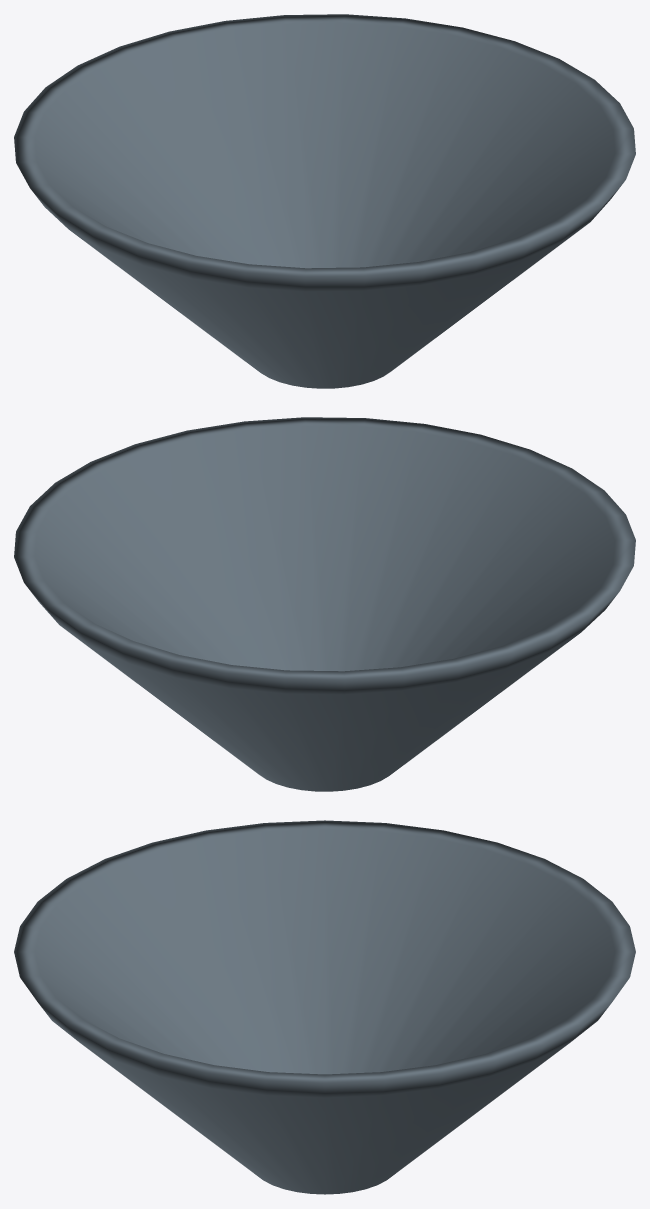
File: eagle_ascent.docking_tunnel.drogue.glb
3 views of the same model, one above another, from view 1: azimuth 30°, elevation 25°; view 2: azimuth 150°, elevation 25°; view 3: azimuth 270°, elevation 25° (orthographic).
Parts seen in each view (by area): view 1: eagle_ascent.docking_tunnel.drogue.mesh; view 2: eagle_ascent.docking_tunnel.drogue.mesh; view 3: eagle_ascent.docking_tunnel.drogue.mesh.
Part boxes in pixels (x1,y1,x2,y2): eagle_ascent.docking_tunnel.drogue.mesh: [14, 14, 635, 388]; eagle_ascent.docking_tunnel.drogue.mesh: [14, 417, 635, 791]; eagle_ascent.docking_tunnel.drogue.mesh: [14, 820, 635, 1194].
Size of the model in its own units: 0.8 by 0.305 by 0.8.
